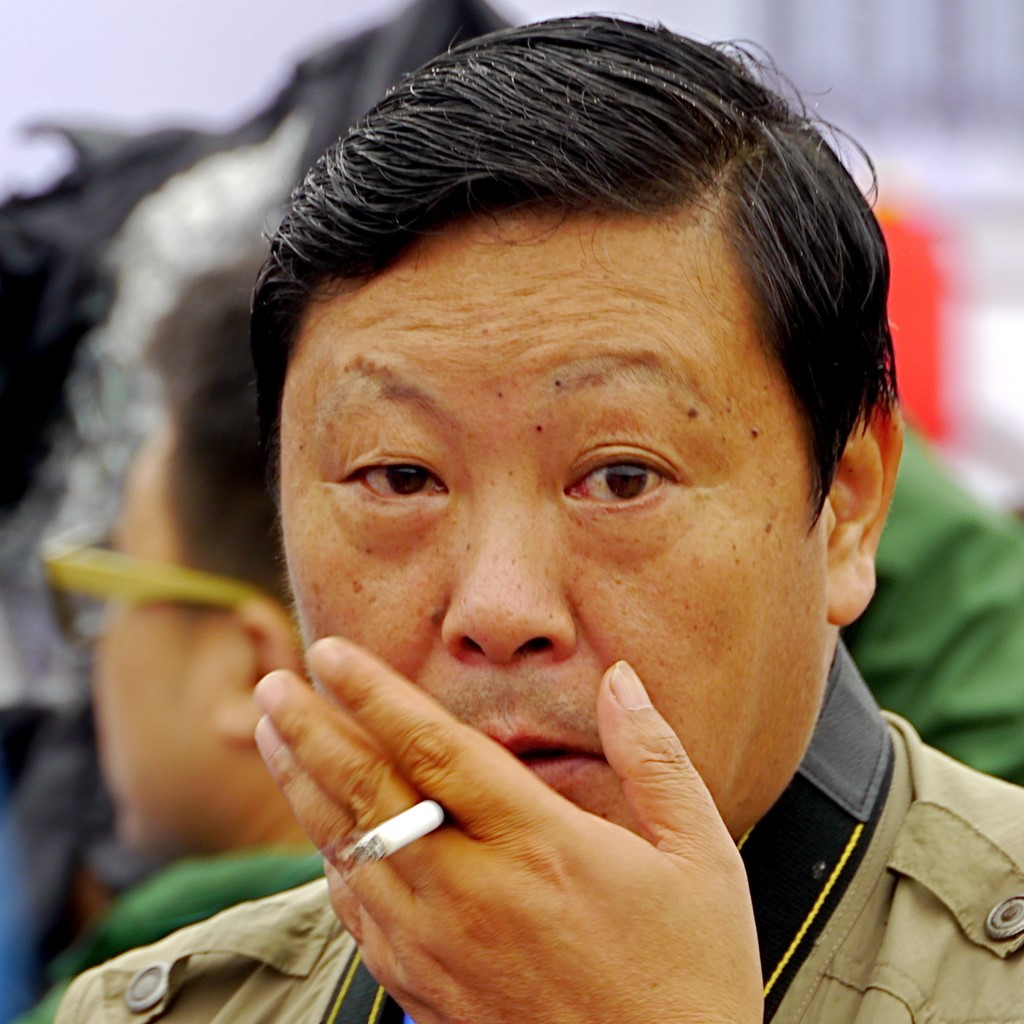sin_mascara: (265, 196, 813, 878)
